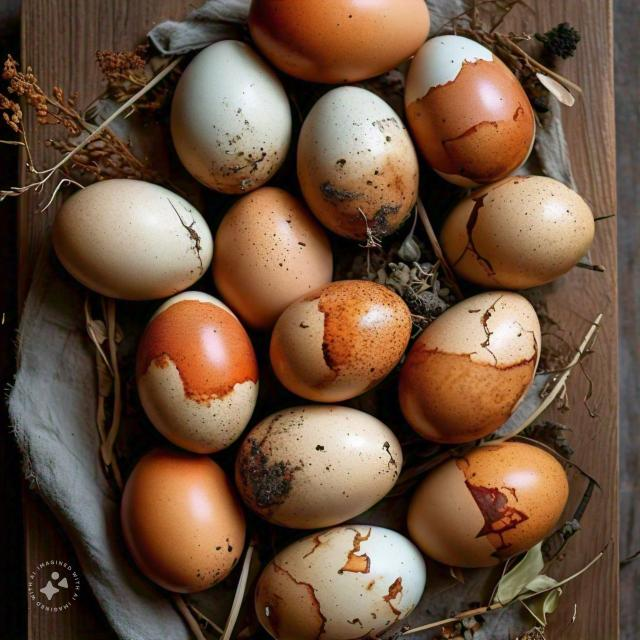Dirt Stained Egg: (298, 84, 428, 289), (154, 14, 283, 198), (274, 280, 423, 396)
